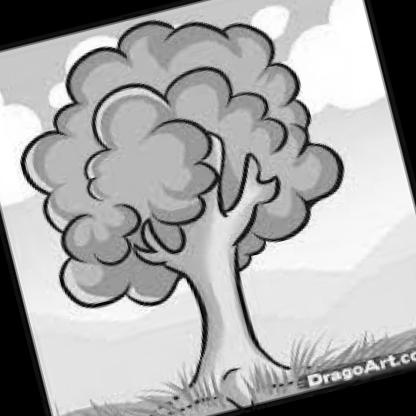branch_sharp: (110, 115, 290, 268)
crown_cloud: (0, 0, 369, 330)
root_upside: (140, 336, 317, 416)
trunk_straight: (186, 279, 266, 354)
